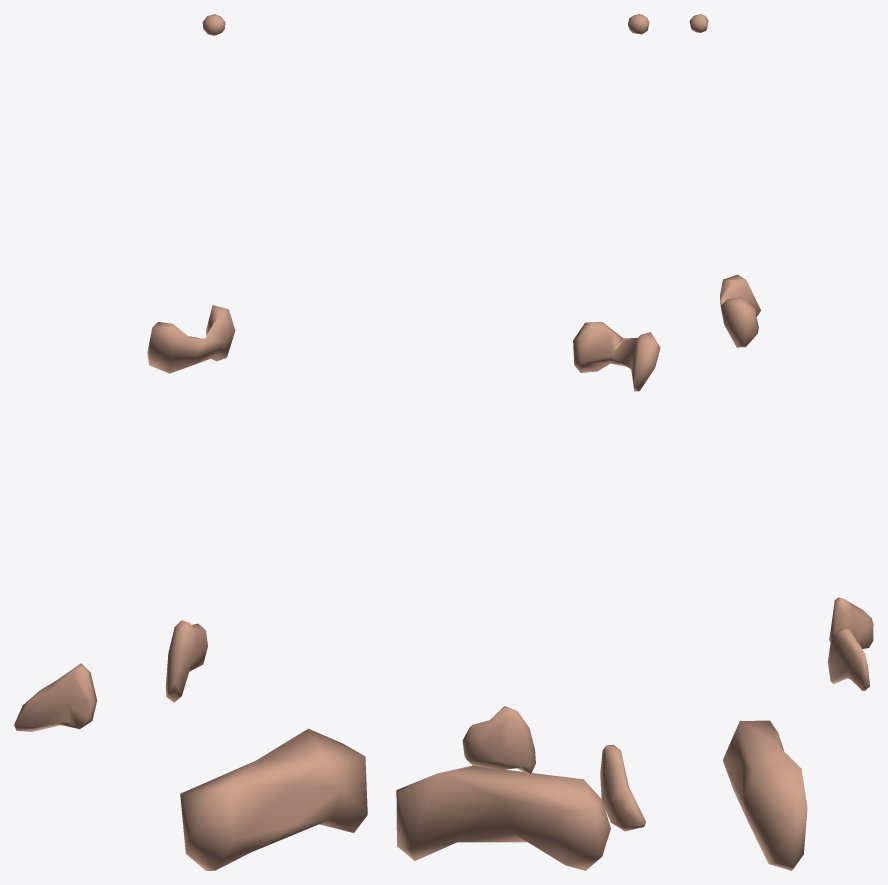
File: pediatric_child_5y_female.endocrine.LOD3.glb
3 views of the same model, side by side, from view 1: azimuth 30°, elevation 25°; view 2: azimuth 150°, elevation 25°; view 3: azimuth 270°, elevation 25° (orthographic). The views are drawn at different scales.
Visible parts, largest first — view 1: PEDIATRIC.CHILD_5Y.FEMALE.ENDOCRINE.PANCREAS, PEDIATRIC.CHILD_5Y.FEMALE.ENDOCRINE.ADRENAL.R, PEDIATRIC.CHILD_5Y.FEMALE.ENDOCRINE.THYROID, PEDIATRIC.CHILD_5Y.FEMALE.ENDOCRINE.ADRENAL.L; view 2: PEDIATRIC.CHILD_5Y.FEMALE.ENDOCRINE.PANCREAS, PEDIATRIC.CHILD_5Y.FEMALE.ENDOCRINE.THYROID, PEDIATRIC.CHILD_5Y.FEMALE.ENDOCRINE.ADRENAL.L, PEDIATRIC.CHILD_5Y.FEMALE.ENDOCRINE.ADRENAL.R; view 3: PEDIATRIC.CHILD_5Y.FEMALE.ENDOCRINE.PANCREAS, PEDIATRIC.CHILD_5Y.FEMALE.ENDOCRINE.THYROID, PEDIATRIC.CHILD_5Y.FEMALE.ENDOCRINE.ADRENAL.L, PEDIATRIC.CHILD_5Y.FEMALE.ENDOCRINE.ADRENAL.R.
Part boxes in pixels (<box>): PEDIATRIC.CHILD_5Y.FEMALE.ENDOCRINE.PANCREAS: <box>180,728,367,870</box>; PEDIATRIC.CHILD_5Y.FEMALE.ENDOCRINE.ADRENAL.R: <box>14,663,97,731</box>; PEDIATRIC.CHILD_5Y.FEMALE.ENDOCRINE.THYROID: <box>147,305,235,373</box>; PEDIATRIC.CHILD_5Y.FEMALE.ENDOCRINE.ADRENAL.L: <box>165,620,207,702</box>; PEDIATRIC.CHILD_5Y.FEMALE.ENDOCRINE.PANCREAS: <box>396,765,610,870</box>; PEDIATRIC.CHILD_5Y.FEMALE.ENDOCRINE.THYROID: <box>573,322,660,391</box>; PEDIATRIC.CHILD_5Y.FEMALE.ENDOCRINE.ADRENAL.L: <box>462,706,535,774</box>; PEDIATRIC.CHILD_5Y.FEMALE.ENDOCRINE.ADRENAL.R: <box>600,745,645,831</box>; PEDIATRIC.CHILD_5Y.FEMALE.ENDOCRINE.PANCREAS: <box>723,720,807,870</box>; PEDIATRIC.CHILD_5Y.FEMALE.ENDOCRINE.THYROID: <box>720,274,760,347</box>; PEDIATRIC.CHILD_5Y.FEMALE.ENDOCRINE.ADRENAL.L: <box>827,628,869,690</box>; PEDIATRIC.CHILD_5Y.FEMALE.ENDOCRINE.ADRENAL.R: <box>829,597,873,648</box>.
Bounding box in the file's own units: 0.1272 × 0.3551 × 0.0761.
